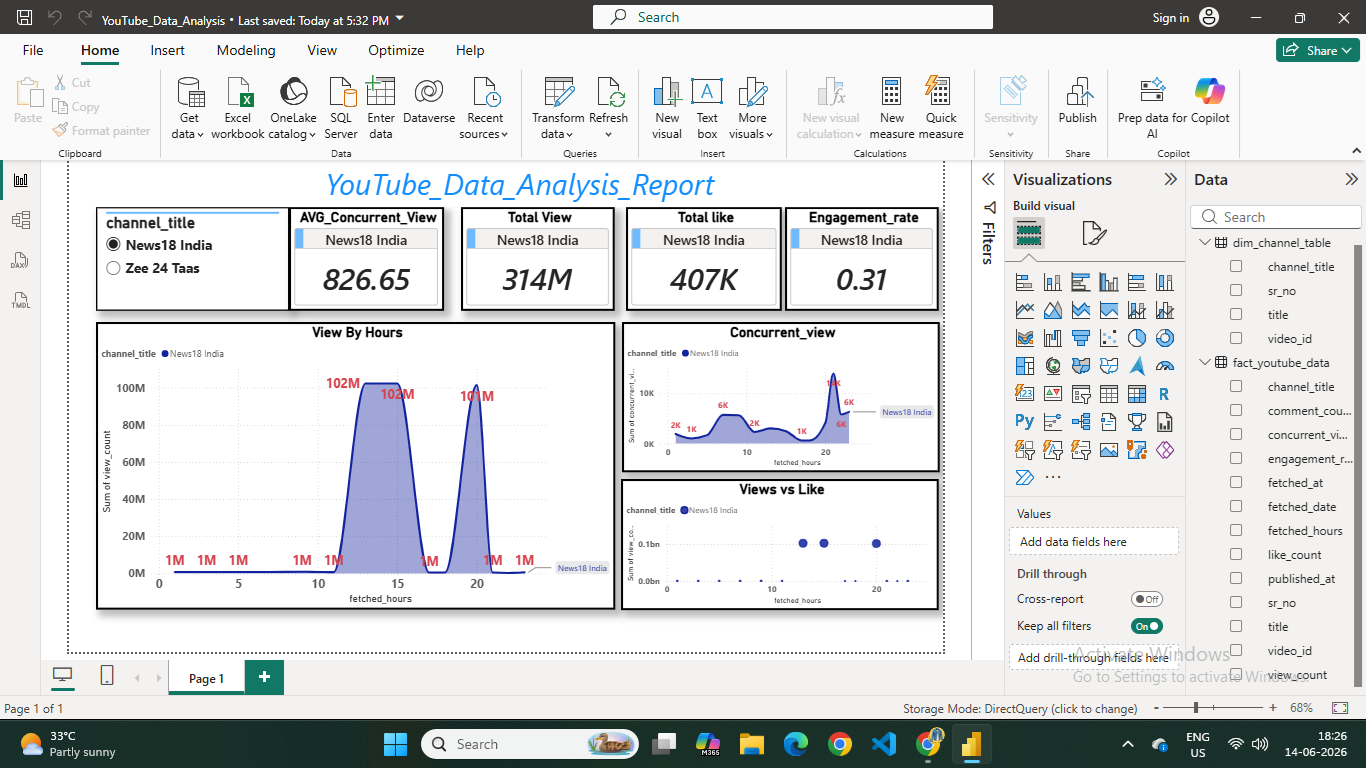

What the dashboard file says about the page in this screenshot:
{"tool":"powerbi","page":{"name":"Page 1","canvas":[1280,720],"ordinal":0},"visuals":[{"type":"slicer","fields":{"Values":["dim_channel_table.channel_title"]},"box":[39.7,69.5,282.8,152.1],"z":0},{"type":"lineChart","title":"View By Hours","fields":{"Category":["fact_youtube_data.fetched_hours"],"Series":["dim_channel_table.channel_title"],"Y":["Sum(fact_youtube_data.view_count)"]},"box":[39.5,237.1,759.5,421.5],"z":1000},{"type":"cardVisual","title":"AVG_Concurrent_View","fields":{"Data":["Avg(fact_youtube_data.concurrent_viewers)"],"Rows":["dim_channel_table.channel_title"]},"box":[322.5,69.5,226.6,152.1],"z":2000},{"type":"cardVisual","title":"Total View","fields":{"Rows":["dim_channel_table.channel_title"],"Data":["Sum(fact_youtube_data.view_count)"]},"box":[573.9,69.5,224.9,152.1],"z":3000},{"type":"cardVisual","title":"Total like","fields":{"Rows":["dim_channel_table.channel_title"],"Data":["Sum(fact_youtube_data.like_count)"]},"box":[815.3,69.5,228.2,152.1],"z":4000},{"type":"cardVisual","title":"Engagement_rate","fields":{"Rows":["dim_channel_table.channel_title"],"Data":["Sum(fact_youtube_data.engagement_rate)"]},"box":[1048.5,69.5,224.9,152.1],"z":4001},{"type":"textbox","box":[39.7,0,1240.3,69.5],"z":4002},{"type":"lineChart","title":"Concurrent_view","fields":{"Series":["dim_channel_table.channel_title"],"Y":["Sum(fact_youtube_data.concurrent_viewers)"],"Category":["fact_youtube_data.fetched_hours"]},"box":[808.7,236.5,464.7,219.9],"z":4003},{"type":"scatterChart","title":"Views vs Like","fields":{"Series":["dim_channel_table.channel_title"],"X":["fact_youtube_data.fetched_hours"],"Y":["fact_youtube_data.view_count"],"Size":["Sum(fact_youtube_data.like_count)"]},"box":[807.8,466.8,465.4,191.7],"z":4004}]}

Visuals, with their boxes on the page's 1280x720 design canvas (x1, y1, x2, y2). These are canvas units, not pixel positions in the 1366x768 screenshot, which may show the page scaled, cropped or inside an application window:
slicer - dim_channel_table.channel_title: Rect(40, 70, 322, 222)
"View By Hours" lineChart: Rect(40, 237, 799, 659)
"AVG_Concurrent_View" cardVisual: Rect(322, 70, 549, 222)
"Total View" cardVisual: Rect(574, 70, 799, 222)
"Total like" cardVisual: Rect(815, 70, 1044, 222)
"Engagement_rate" cardVisual: Rect(1048, 70, 1273, 222)
textbox: Rect(40, 0, 1280, 70)
"Concurrent_view" lineChart: Rect(809, 236, 1273, 456)
"Views vs Like" scatterChart: Rect(808, 467, 1273, 658)
